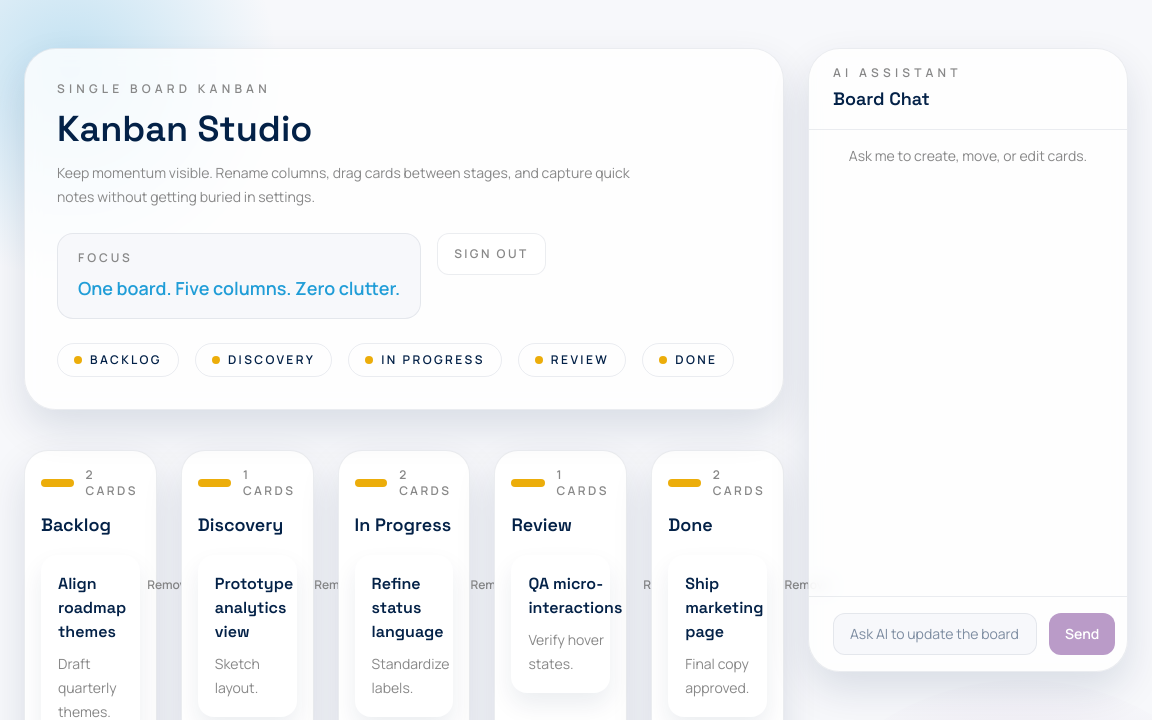
Test: KanbanBoard › deletes a card
The width and height of the screenshot is (1152, 720).
Check: the heading "Align roadmap themes" is shown, box top-left (58, 572), bottom-right (126, 644)
Click the button with aria-label "delete align roadmap themes" at (170, 585), box top-left (138, 572), bottom-right (202, 598)
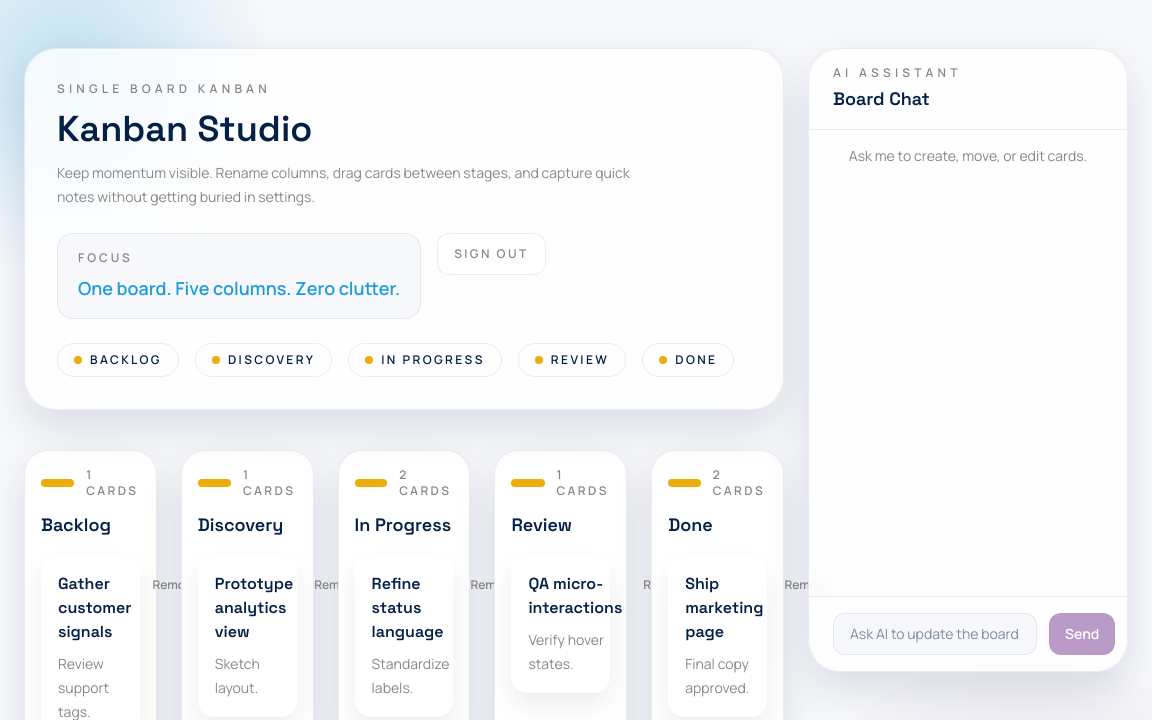
Check: the button "Align roadmap themes" is gone
